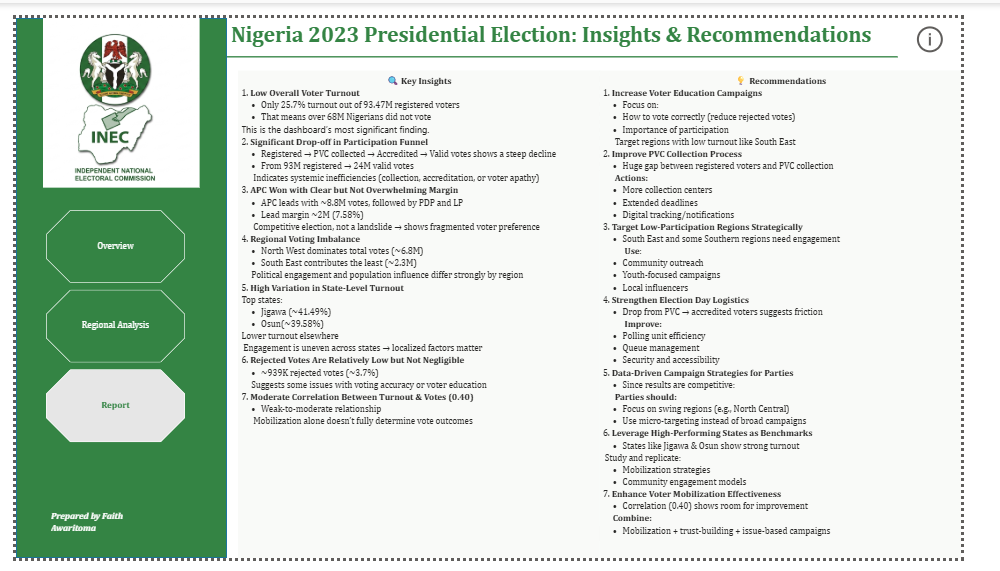

Layout of this report page (visuals, bound fields, positions):
{"tool":"powerbi","page":{"name":"Report","canvas":[1400,800],"ordinal":2},"visuals":[{"type":"shape","box":[311,0,995,115],"z":0},{"type":"shape","title":"side background","box":[0,0,312.5,800],"z":1000},{"type":"textbox","box":[312.8,0,961.7,63.8],"z":2000},{"type":"image","title":"INEC logo","box":[0,0,312,251],"z":3000},{"type":"pageNavigator","box":[43.9,283.3,206.1,347],"z":4000},{"type":"textbox","box":[46.4,723.2,183.9,48.2],"z":5000},{"type":"textbox","title":"Insights","box":[328.8,77.3,536.4,722.7],"z":6000},{"type":"textbox","title":"Recommendation","box":[863.6,77.3,536.4,722.7],"z":7000},{"type":"actionButton","title":"Info Button","box":[1322,7,63,50],"z":8000},{"type":"cardVisual","title":"Methodology Hotspot","fields":{"Data":["Fact_Results.APC Votes"]},"box":[1305,0,95,63],"z":9000}]}

Visuals, with their boxes in screenshot pixels (x1, y1, x2, y2), scaled from the page's 1400x800 canvas onto the 1000x571 screenshot:
shape: 222 0 933 82
"side background" shape: 0 0 223 570
textbox: 223 0 910 46
"INEC logo" image: 0 0 223 179
pageNavigator: 31 202 179 450
textbox: 33 516 164 551
"Insights" textbox: 235 55 618 570
"Recommendation" textbox: 617 55 999 570
"Info Button" actionButton: 944 5 989 41
"Methodology Hotspot" cardVisual: 932 0 999 45
